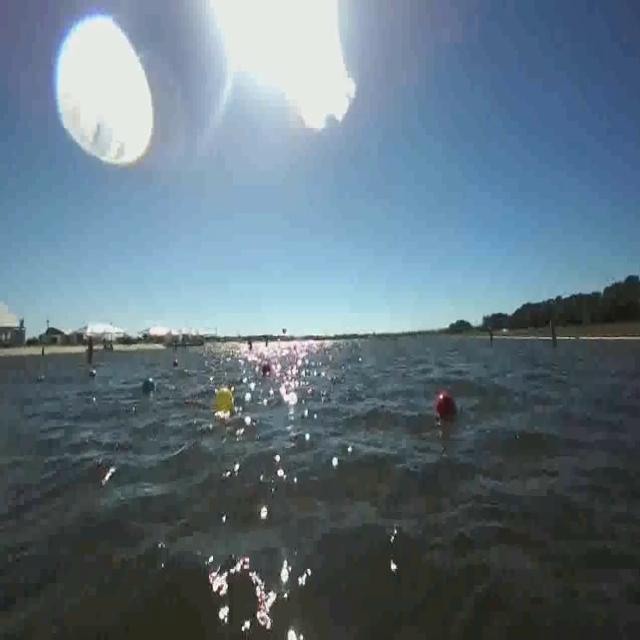black-buoy: (141, 373, 156, 392)
red-buoy: (436, 395, 454, 418)
yellow-buoy: (215, 381, 234, 407)
